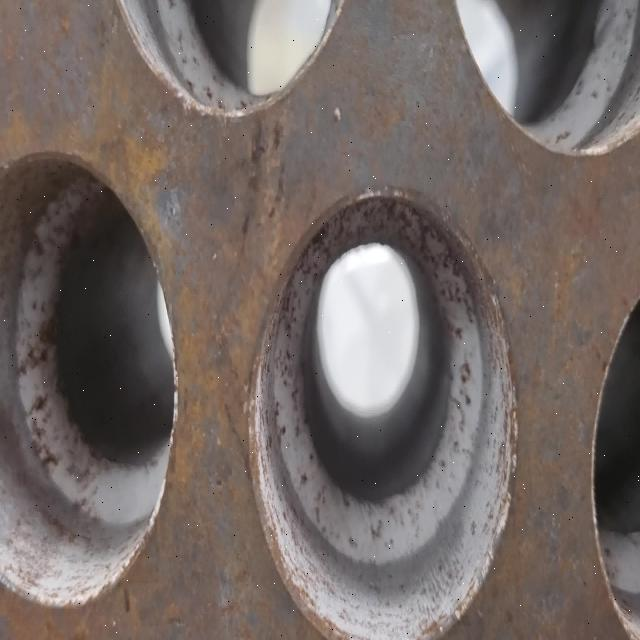Hole: (246, 184, 517, 634), (1, 148, 178, 610), (106, 1, 360, 119), (448, 1, 638, 156)
